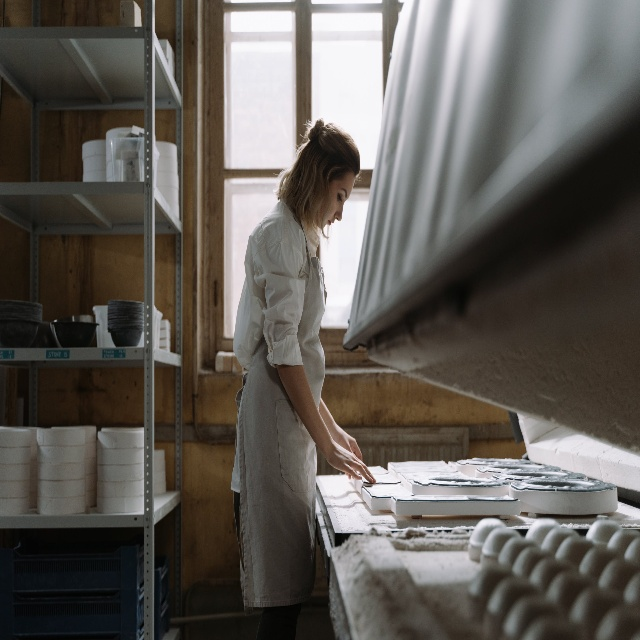Sin_guantes: (327, 439, 377, 484), (332, 427, 363, 461)
